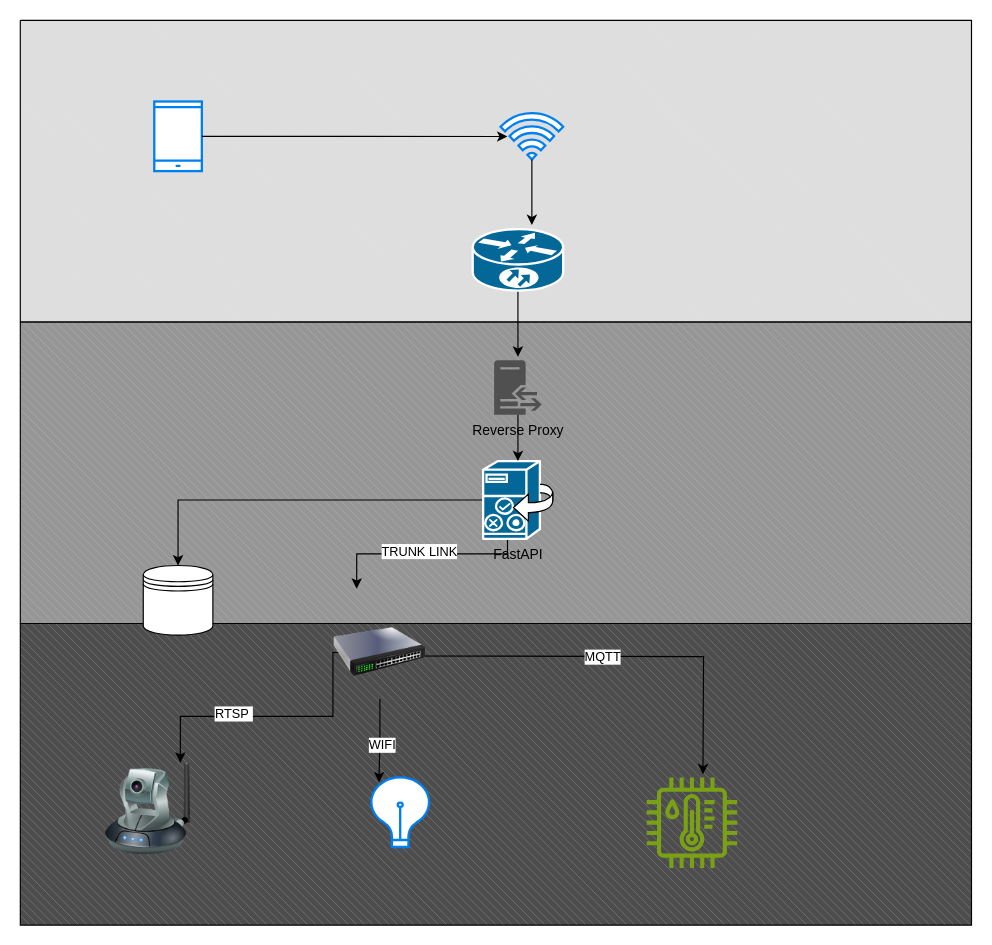
Some shapes in this 992 by 945 pixel diagram are drawn without their labels. The shapes that lost their labels are listed below. From the top down, each one's centre as x and y in pixels, then its label:
(517,259): ISP GATEWAY / ROUTER
(177,599): SQLite
